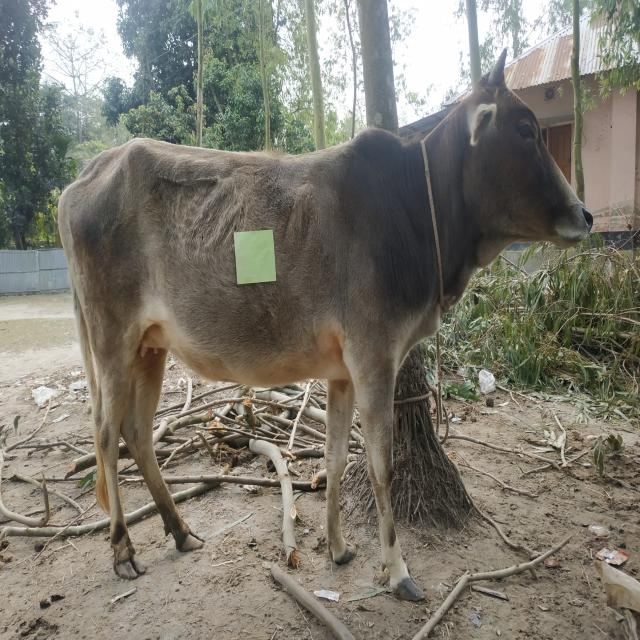badan_sapi: (79, 148, 403, 390)
sapi: (55, 44, 593, 603)
